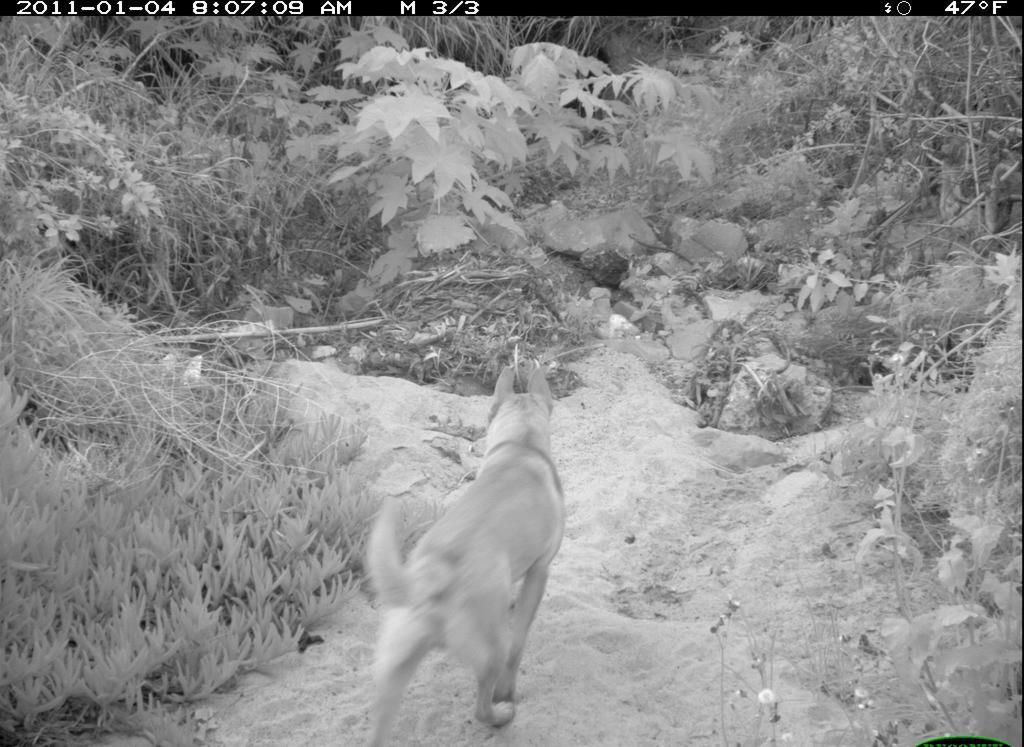dog: (350, 360, 574, 747)
